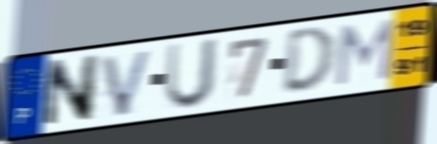7: (227, 34, 270, 101)
D: (279, 24, 338, 95)
M: (332, 17, 398, 89)
N: (40, 52, 102, 130)
U: (162, 35, 222, 112)
V: (99, 47, 156, 119)
